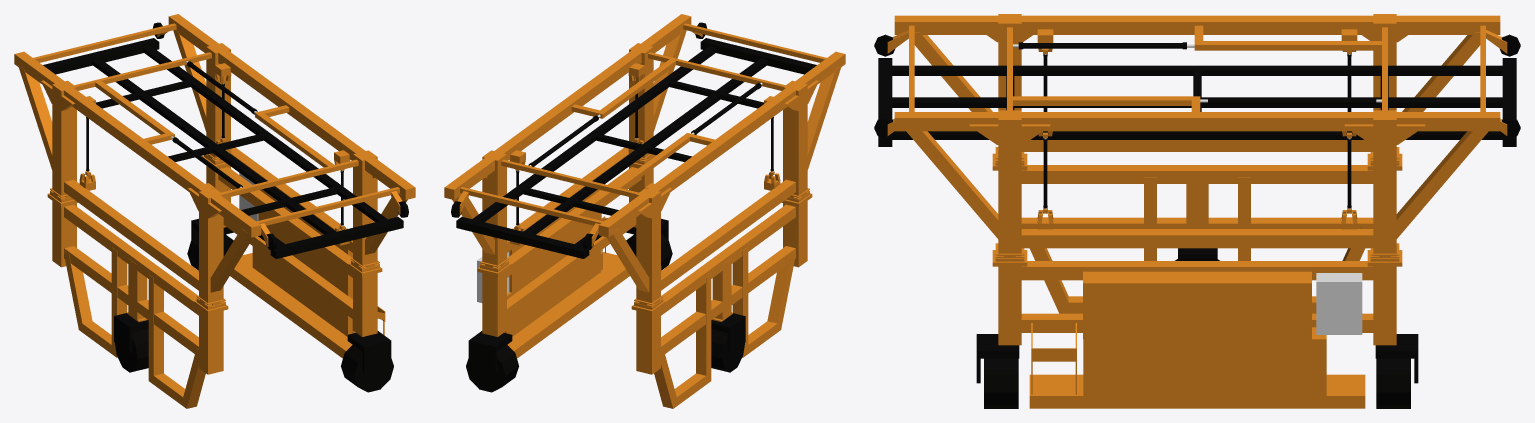
File: 3、跨运车.fbx
3 renders of one model, left to right at view 1: azimuth 30°, elevation 25°; view 2: azimuth 150°, elevation 25°; view 3: azimuth 270°, elevation 25°, orthographic. The views are drawn at different scales.
Parts seen in each view (by area): view 1: 物件_11, 物件_44, 物件_4, 物件_37, 物件_5, 物件_47, 物件_1, 物件_7, 物件_9; view 2: 物件_11, 物件_44, 物件_1, 物件_36, 物件_5, 物件_47, 物件_4, 物件_9, 物件_7; view 3: 物件_11, 物件_44, 物件_46, 物件_1, 物件_4, 物件_7, 物件_9, 物件_36, 物件_37.
Part boxes in pixels (x1=…): 物件_11: x1=14, y1=14, x2=415, y2=408; 物件_44: x1=43, y1=38, x2=403, y2=258; 物件_4: x1=341, y1=345, x2=393, y2=392; 物件_37: x1=347, y1=331, x2=391, y2=372; 物件_5: x1=114, y1=329, x2=148, y2=372; 物件_47: x1=114, y1=313, x2=148, y2=352; 物件_1: x1=187, y1=233, x2=233, y2=270; 物件_7: x1=187, y1=61, x2=257, y2=114; 物件_9: x1=172, y1=137, x2=242, y2=188; 物件_11: x1=444, y1=14, x2=845, y2=408; 物件_44: x1=456, y1=38, x2=816, y2=258; 物件_1: x1=466, y1=345, x2=518, y2=392; 物件_36: x1=468, y1=331, x2=512, y2=372; 物件_5: x1=711, y1=329, x2=745, y2=372; 物件_47: x1=711, y1=313, x2=745, y2=352; 物件_4: x1=626, y1=233, x2=672, y2=270; 物件_9: x1=691, y1=83, x2=761, y2=134; 物件_7: x1=528, y1=115, x2=598, y2=166; 物件_11: x1=887, y1=14, x2=1507, y2=408; 物件_44: x1=878, y1=58, x2=1516, y2=146; 物件_46: x1=1316, y1=273, x2=1362, y2=334; 物件_1: x1=1376, y1=358, x2=1410, y2=408; 物件_4: x1=984, y1=358, x2=1018, y2=408; 物件_7: x1=1208, y1=97, x2=1376, y2=104; 物件_9: x1=1018, y1=42, x2=1186, y2=49; 物件_36: x1=1375, y1=334, x2=1418, y2=383; 物件_37: x1=976, y1=334, x2=1019, y2=383.
Bounding box in the file's own units: 512 × 1120 × 559.
